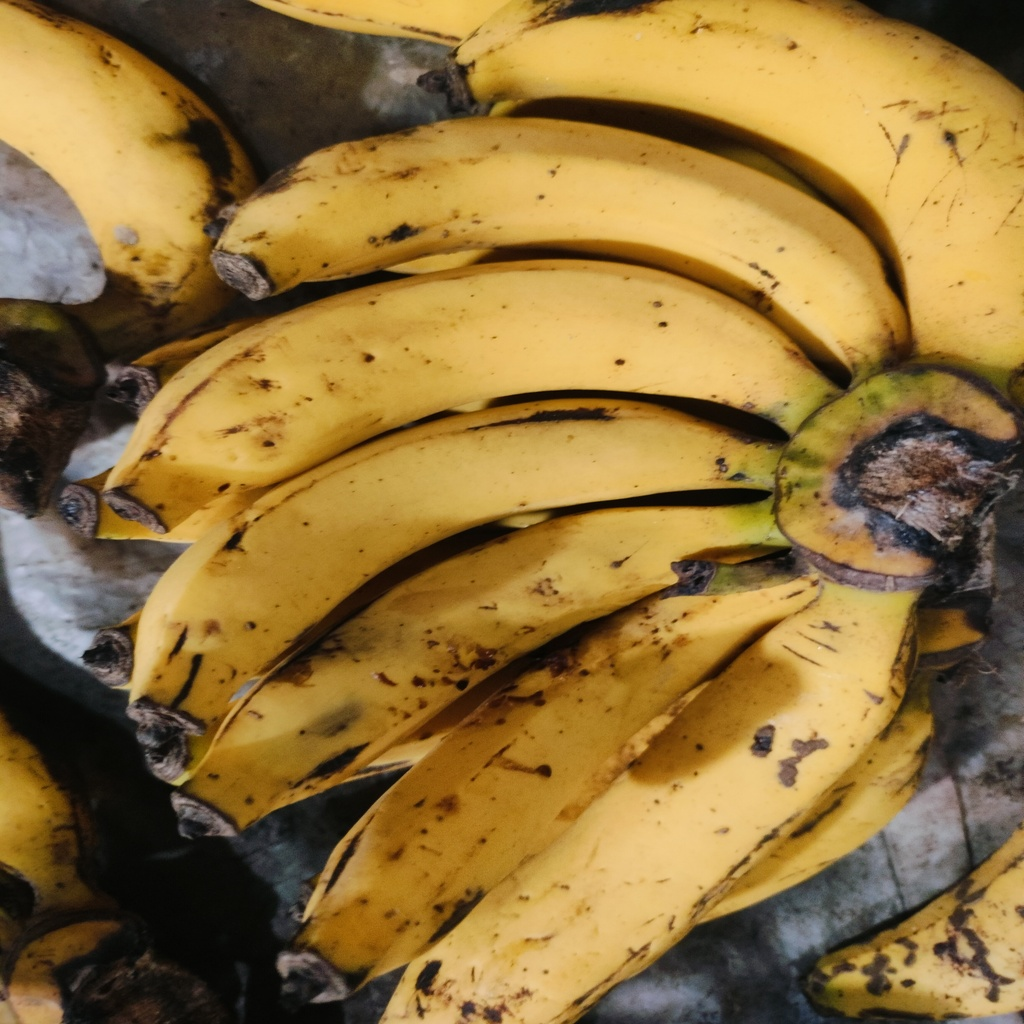healthy: (431, 2, 1018, 408), (138, 399, 803, 727), (110, 261, 831, 535), (184, 500, 772, 824), (216, 113, 906, 345)
unhealthy: (392, 589, 913, 1024)
